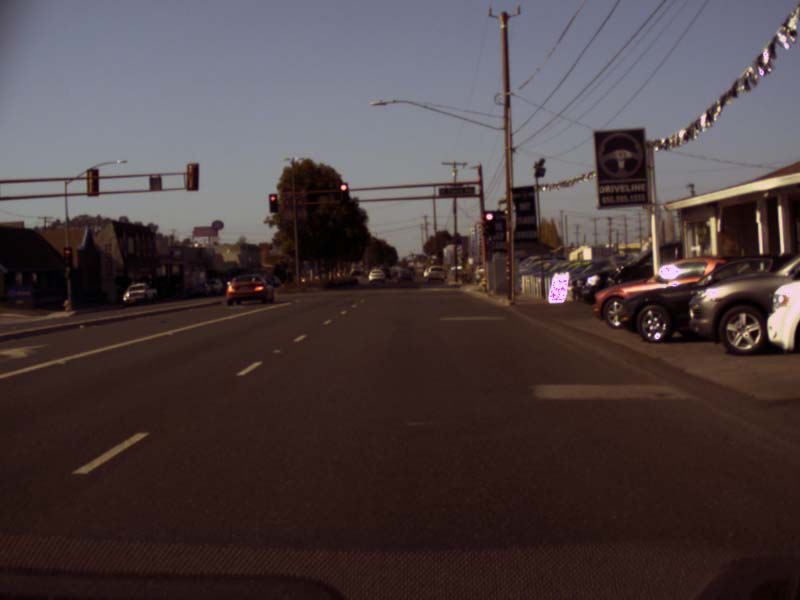Red: (483, 212, 493, 235), (339, 182, 347, 205), (268, 194, 277, 212)
